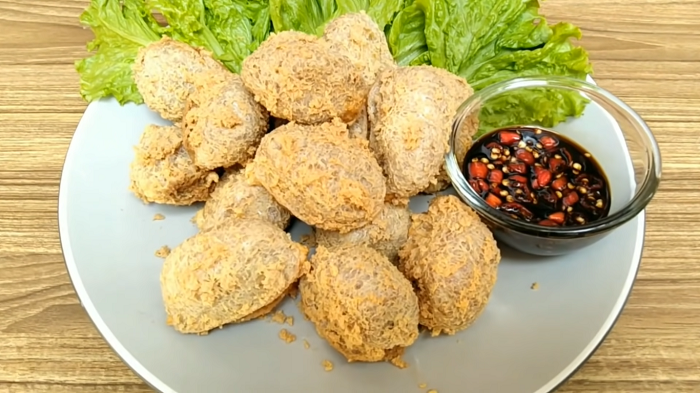Tahu: (148, 228, 300, 336), (310, 241, 421, 340), (280, 116, 380, 223), (375, 60, 463, 175), (424, 219, 509, 308)
